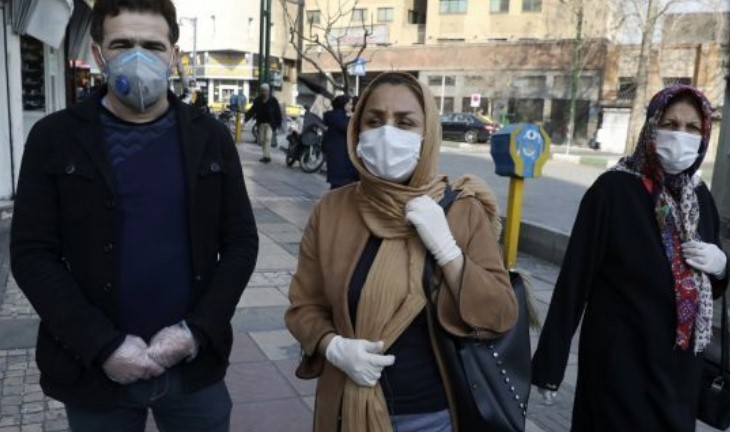face_with_mask: (89, 6, 179, 109), (358, 84, 424, 181), (650, 90, 705, 173)
